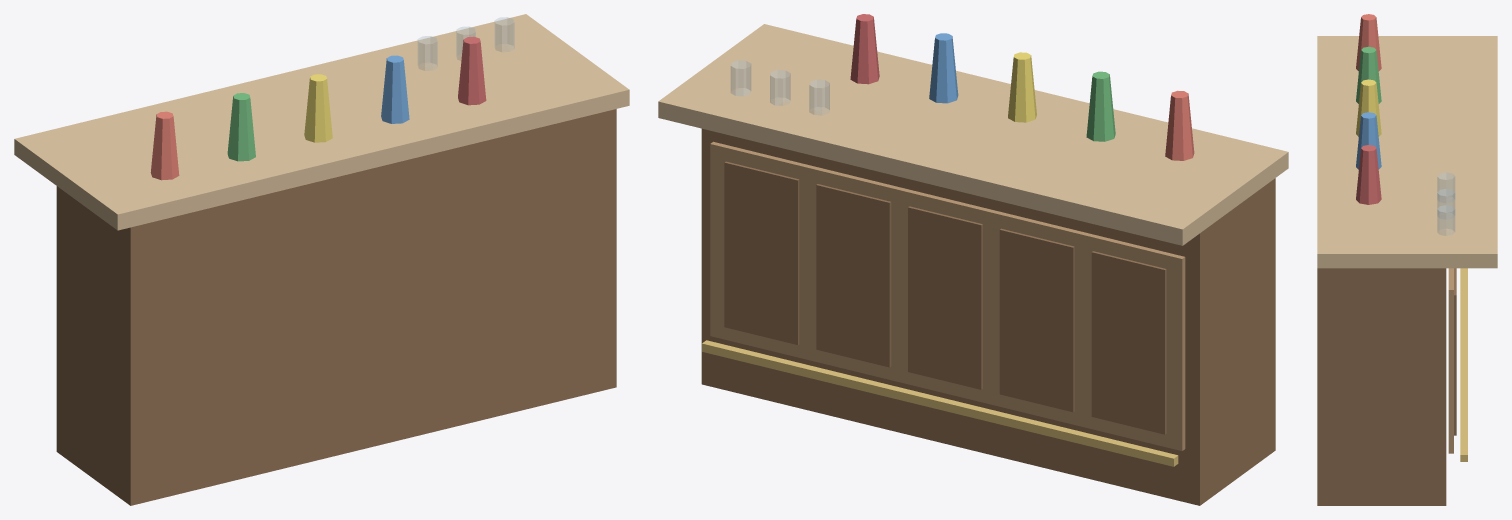
The model's file is bar_counter.glb.
3 views of the same model, side by side, from view 1: azimuth 30°, elevation 25°; view 2: azimuth 150°, elevation 25°; view 3: azimuth 270°, elevation 25° (orthographic). The views are drawn at different scales.
Parts seen in each view (by area): view 1: bar_counter; view 2: bar_counter; view 3: bar_counter.
Boxes of the visible parts, <box> form: bar_counter: <box>14,14,629,505</box>; bar_counter: <box>658,14,1288,505</box>; bar_counter: <box>1317,14,1497,505</box>.
Bounding box in the file's own units: 2 × 1.32 × 0.7.
